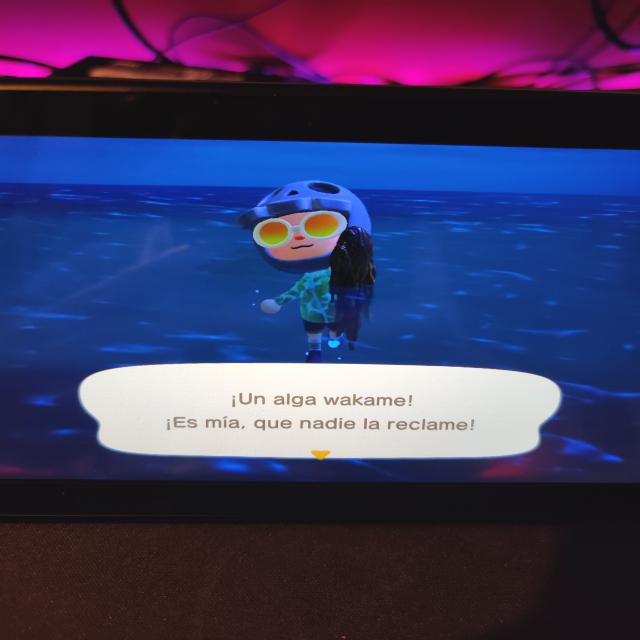text_bubble: (75, 360, 567, 462)
